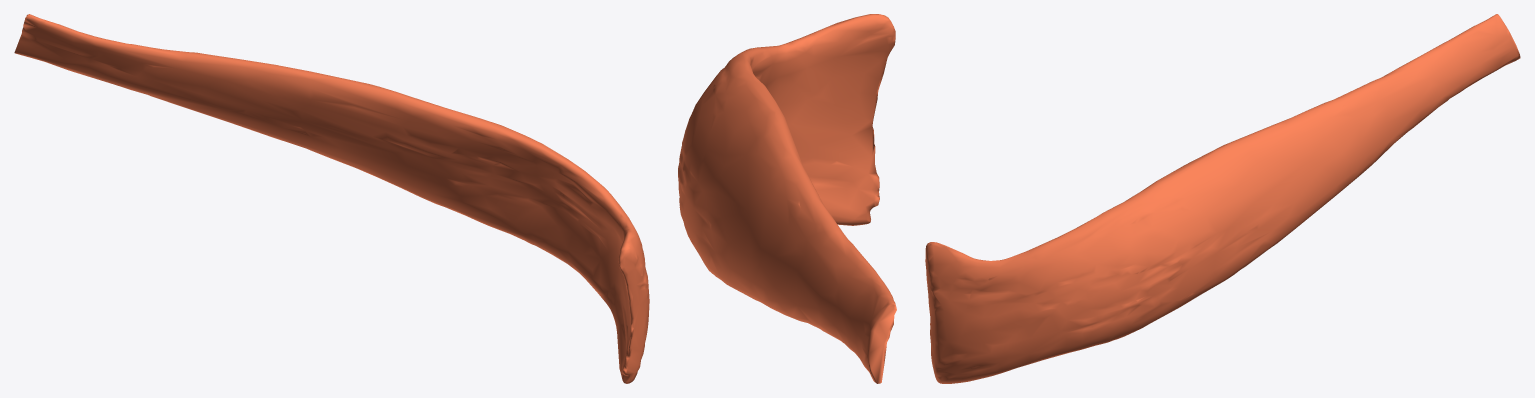
File: Lateral_rectus_left.glb
3 renders of one model, left to right at view 1: azimuth 30°, elevation 25°; view 2: azimuth 150°, elevation 25°; view 3: azimuth 270°, elevation 25°, orthographic. The views are drawn at different scales.
Parts seen in each view (by area): view 1: Lateral_rectus_muscle.l_grp1.012; view 2: Lateral_rectus_muscle.l_grp1.012; view 3: Lateral_rectus_muscle.l_grp1.012.
Part boxes in pixels (x1,y1,x2,y2): Lateral_rectus_muscle.l_grp1.012: [14, 14, 649, 383]; Lateral_rectus_muscle.l_grp1.012: [678, 14, 896, 383]; Lateral_rectus_muscle.l_grp1.012: [925, 14, 1520, 383].
Bounding box in the file's own units: 0.0265 × 0.0165 × 0.0398.
